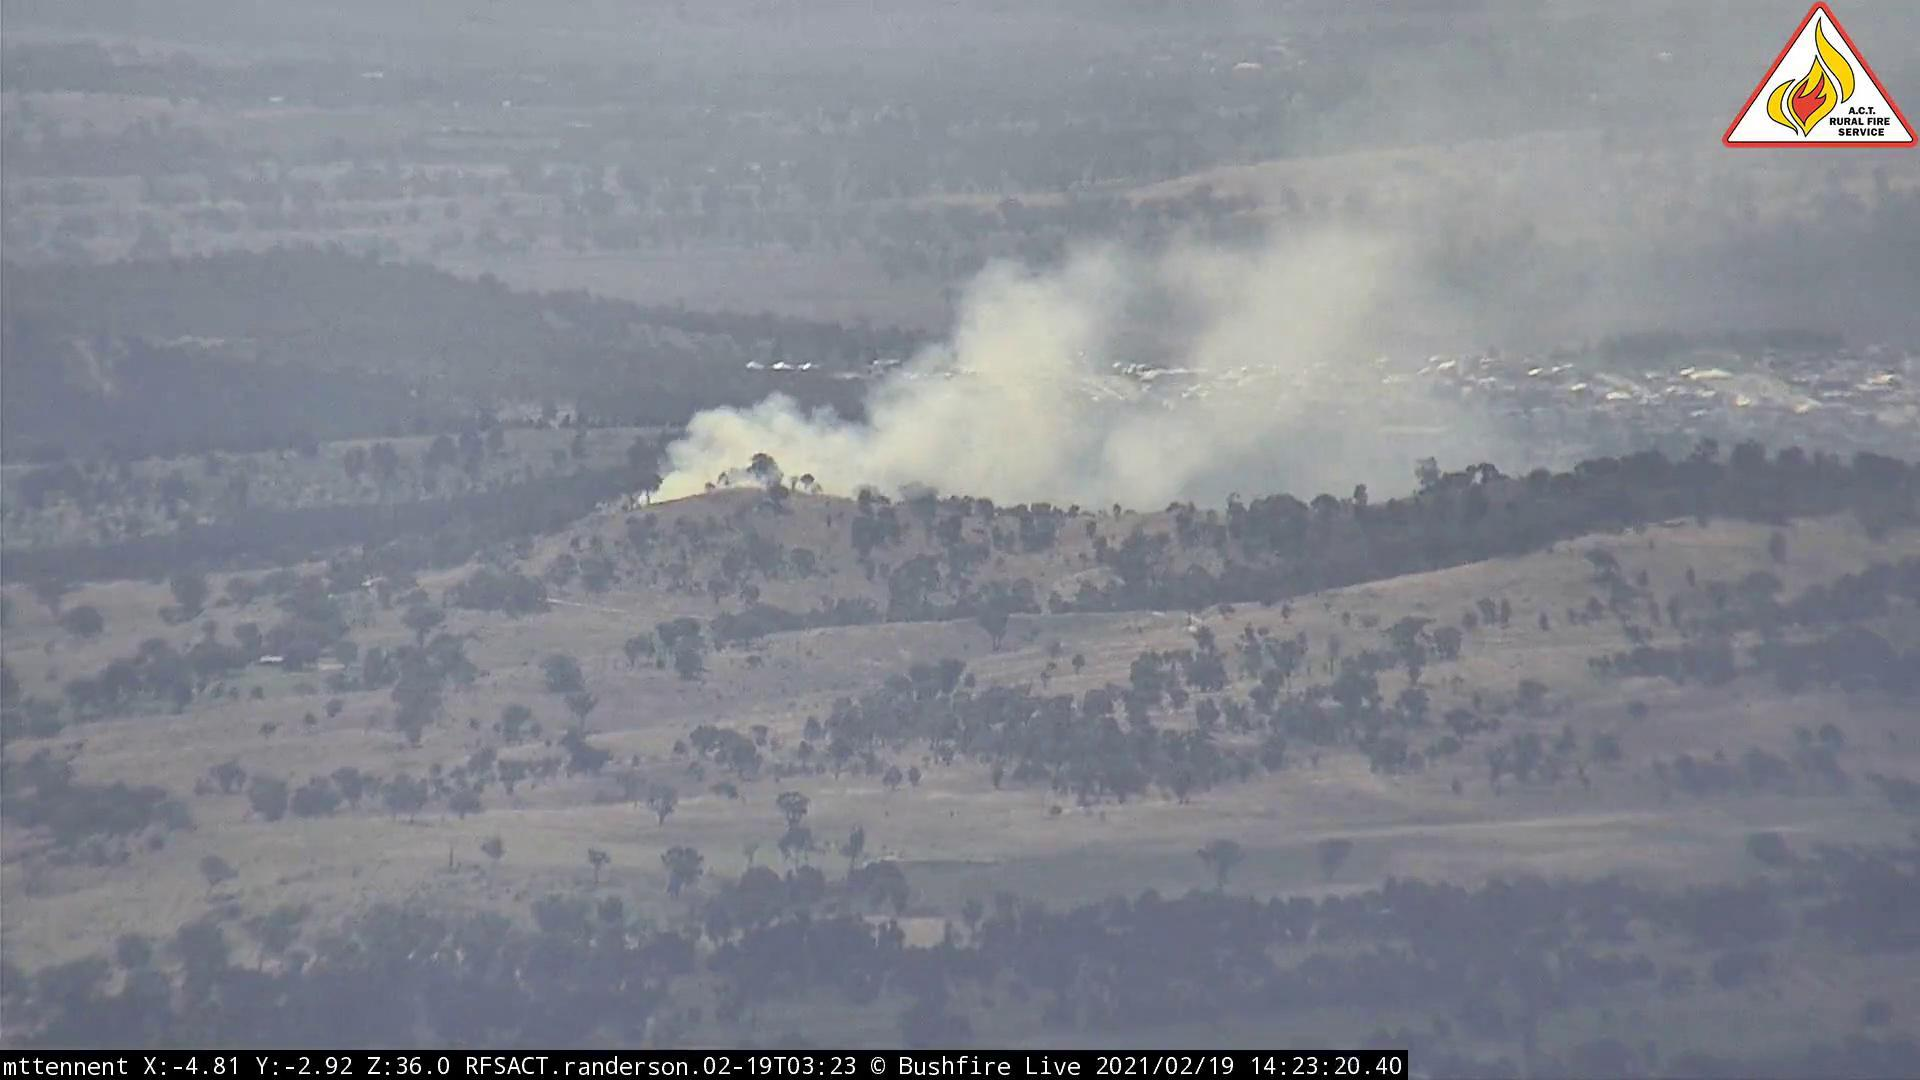Smoke: (612, 109, 1602, 522)
